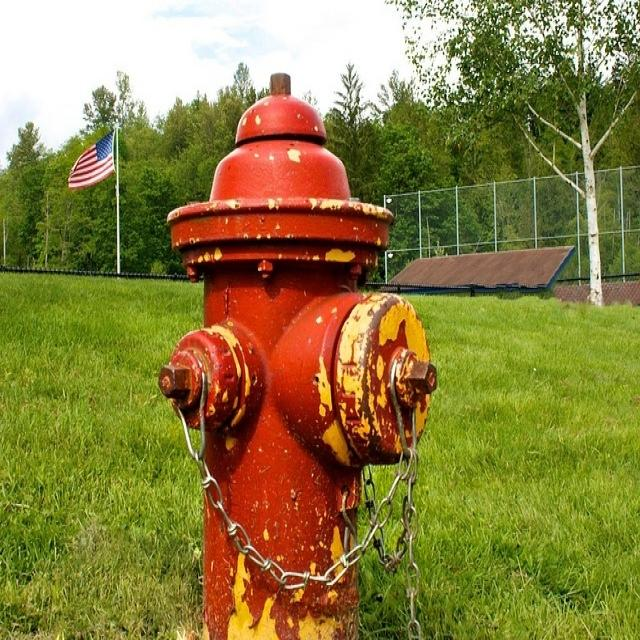fire_hydrant: (156, 82, 429, 640)
